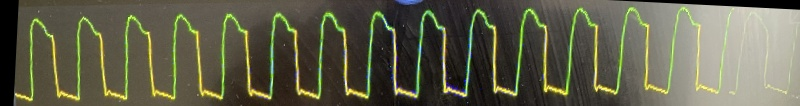normal_pressure: (18, 0, 724, 106)
